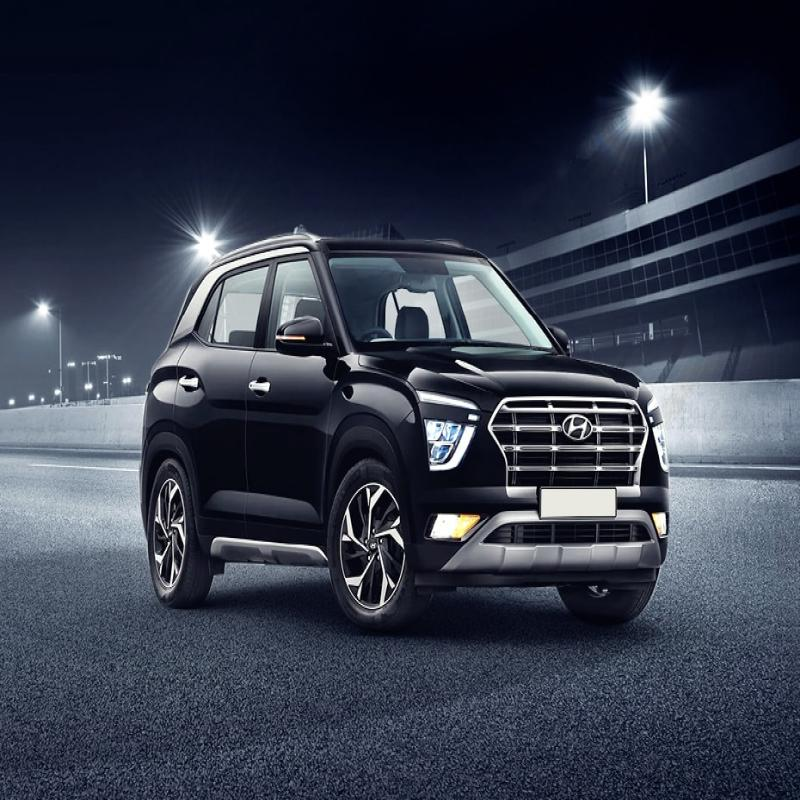car: (141, 198, 698, 635)
